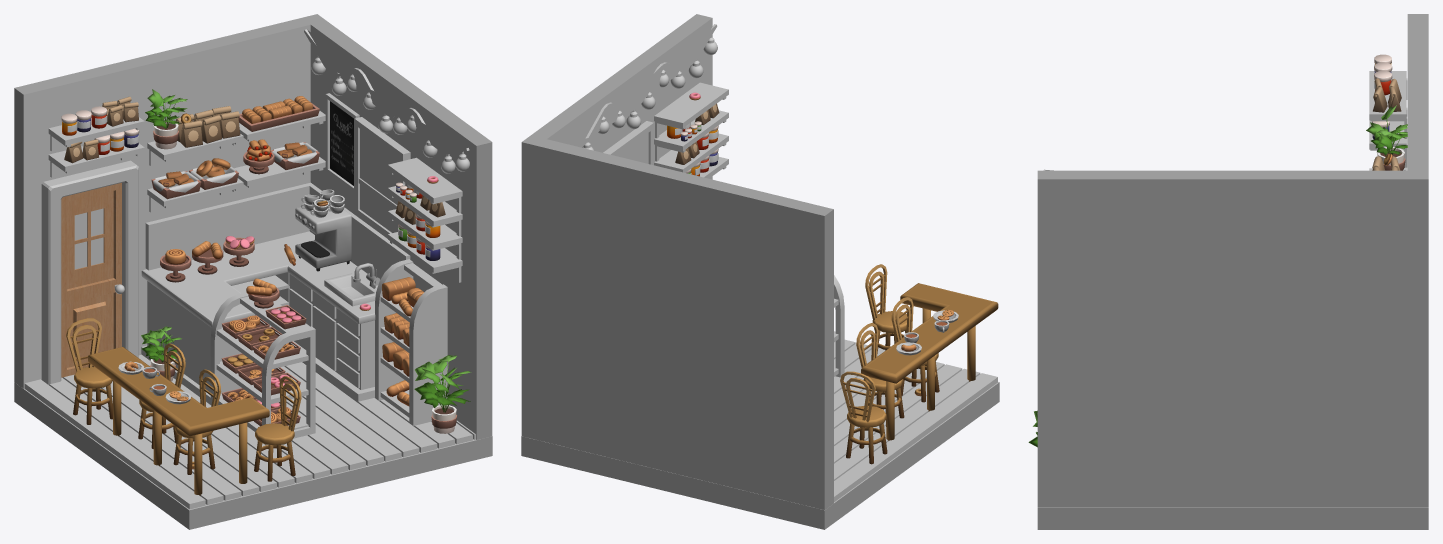
Rendered from 1_coffeeShop_post.fbx.
3 renders of one model, left to right at view 1: azimuth 30°, elevation 25°; view 2: azimuth 150°, elevation 25°; view 3: azimuth 270°, elevation 25°, orthographic. The views are drawn at different scales.
Parts seen in each view (by area): view 1: Isometric_cafe, Cube.003, Cube.002, Cube.062, Plane.016, Cube, Cylinder.067, Cylinder.020, Cylinder.070, Cylinder.066, Cylinder.018, Cylinder.069 (+3 smaller); view 2: Isometric_cafe, Cube.062, Plane.016, Cylinder.067, Cylinder.066, Cylinder.070, Cylinder.068, Cylinder.069; view 3: Isometric_cafe, Cylinder.018.
Boxes of the visible parts, <box> form: Isometric_cafe: <box>14,14,492,529</box>; Cube.003: <box>61,182,124,377</box>; Cube.002: <box>41,160,138,384</box>; Cube.062: <box>88,347,269,436</box>; Plane.016: <box>304,29,469,154</box>; Cube: <box>295,206,351,271</box>; Cylinder.067: <box>66,318,112,424</box>; Cylinder.020: <box>414,355,471,433</box>; Cylinder.070: <box>254,376,301,481</box>; Cylinder.066: <box>113,380,247,495</box>; Cylinder.018: <box>145,89,187,149</box>; Cylinder.069: <box>173,369,221,474</box>; Isometric_cafe: <box>521,14,999,529</box>; Cube.062: <box>861,283,998,383</box>; Plane.016: <box>555,24,717,147</box>; Cylinder.067: <box>840,371,887,464</box>; Cylinder.066: <box>886,308,975,440</box>; Cylinder.070: <box>865,264,906,353</box>; Cylinder.068: <box>856,323,904,426</box>; Cylinder.069: <box>891,297,939,402</box>; Isometric_cafe: <box>1037,14,1428,529</box>; Cylinder.018: <box>1366,105,1407,170</box>.
Bounding box in the file's own units: 2 × 1.98 × 2.05.
